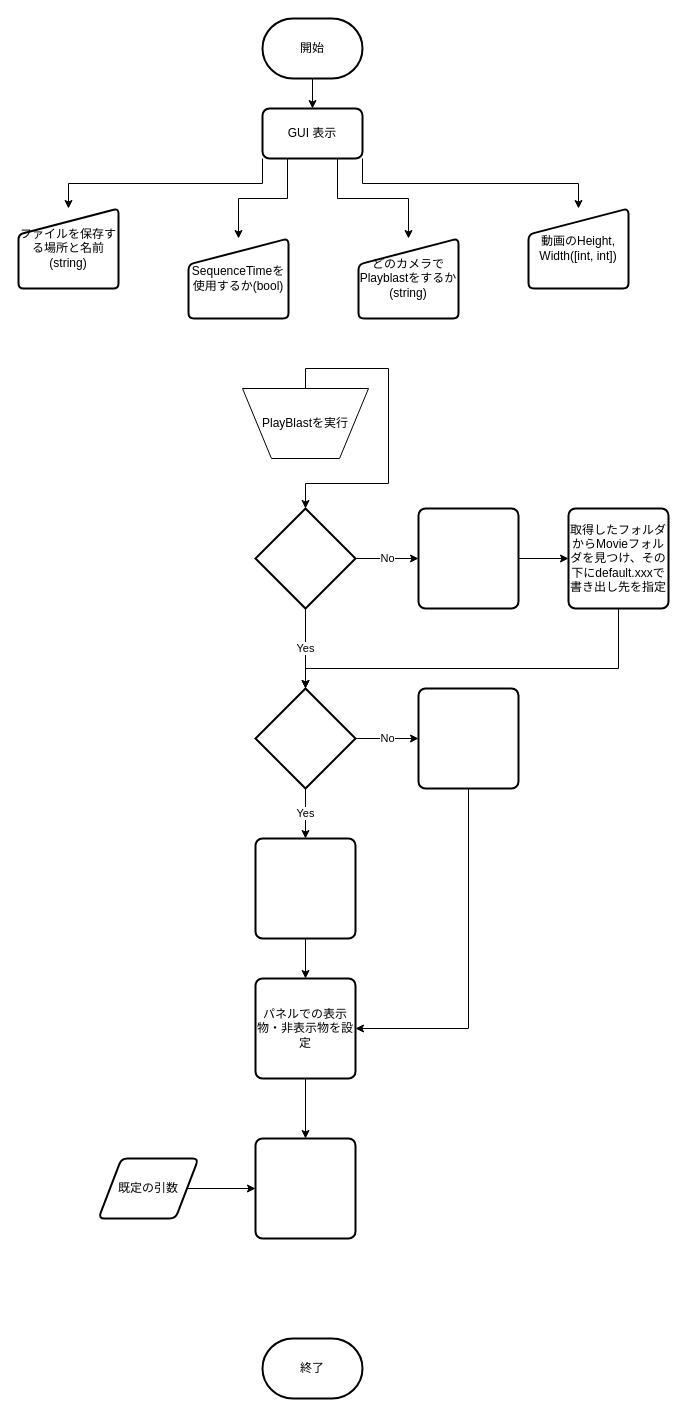
This 686x1416 diagram has some shape labels left out. Each missing label, with the centre of its shape:
"PlayBlastコマンドを実行" goes at point (305, 1188).
"カメラが指定されている" goes at point (305, 738).
"ファイルの保存先が指定されている" goes at point (305, 558).
"プロジェクトのルートフォルダを取得" goes at point (468, 558).
"指定されたカメラで仮のウィンドウを作成" goes at point (305, 888).
"現在アクティブなパネルを取得" goes at point (468, 738).
